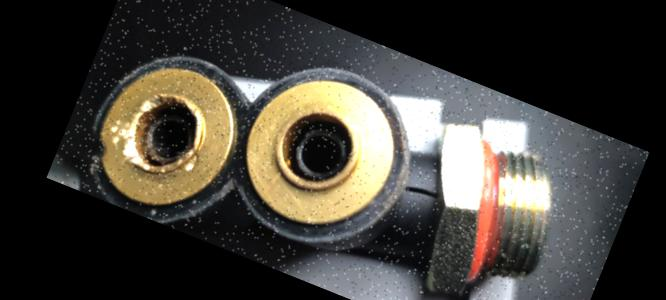bump: (75, 125, 116, 177)
craze: (404, 178, 446, 207)
